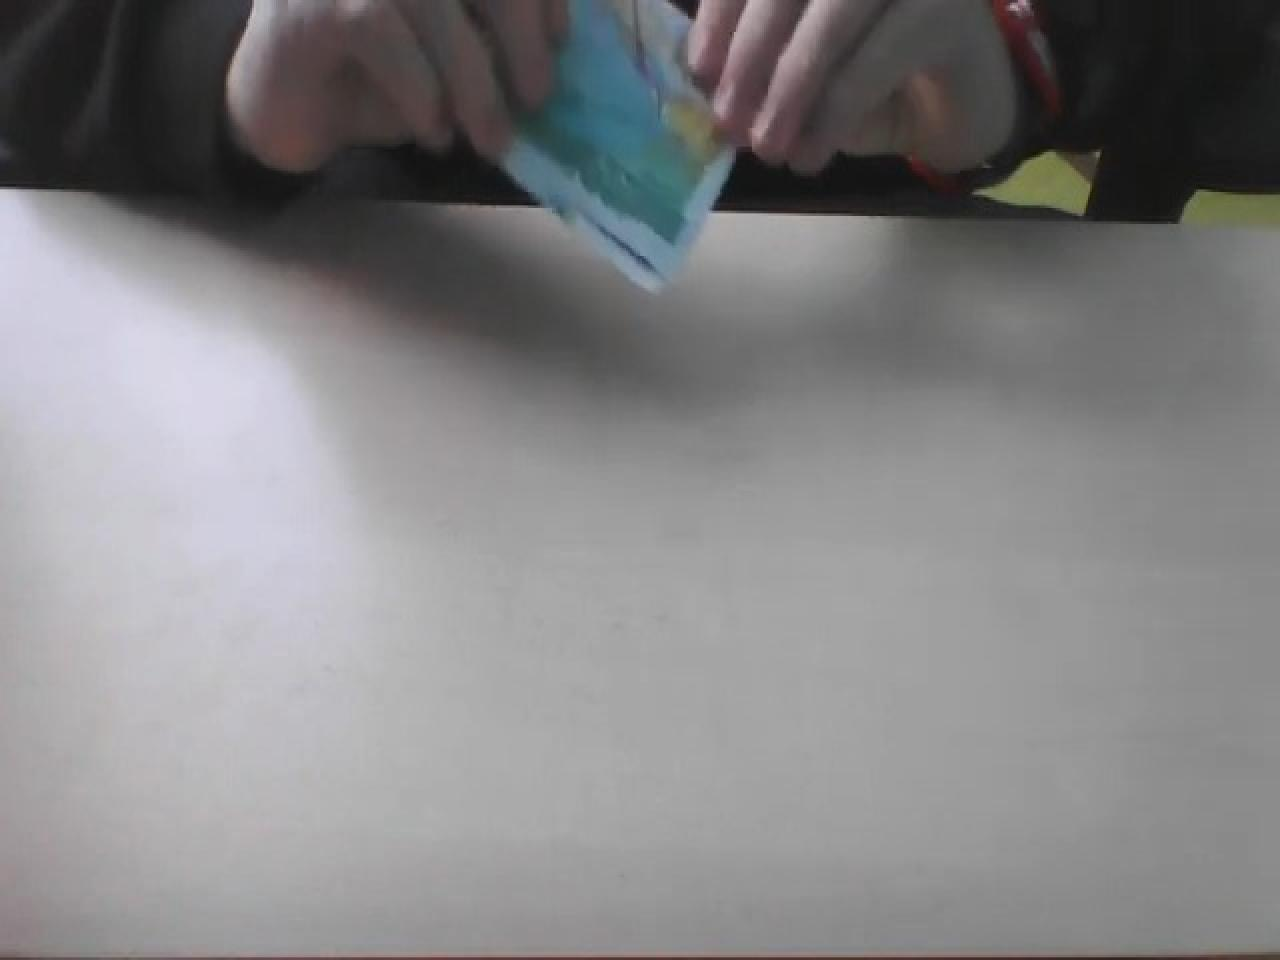100leva: (482, 0, 738, 296)
